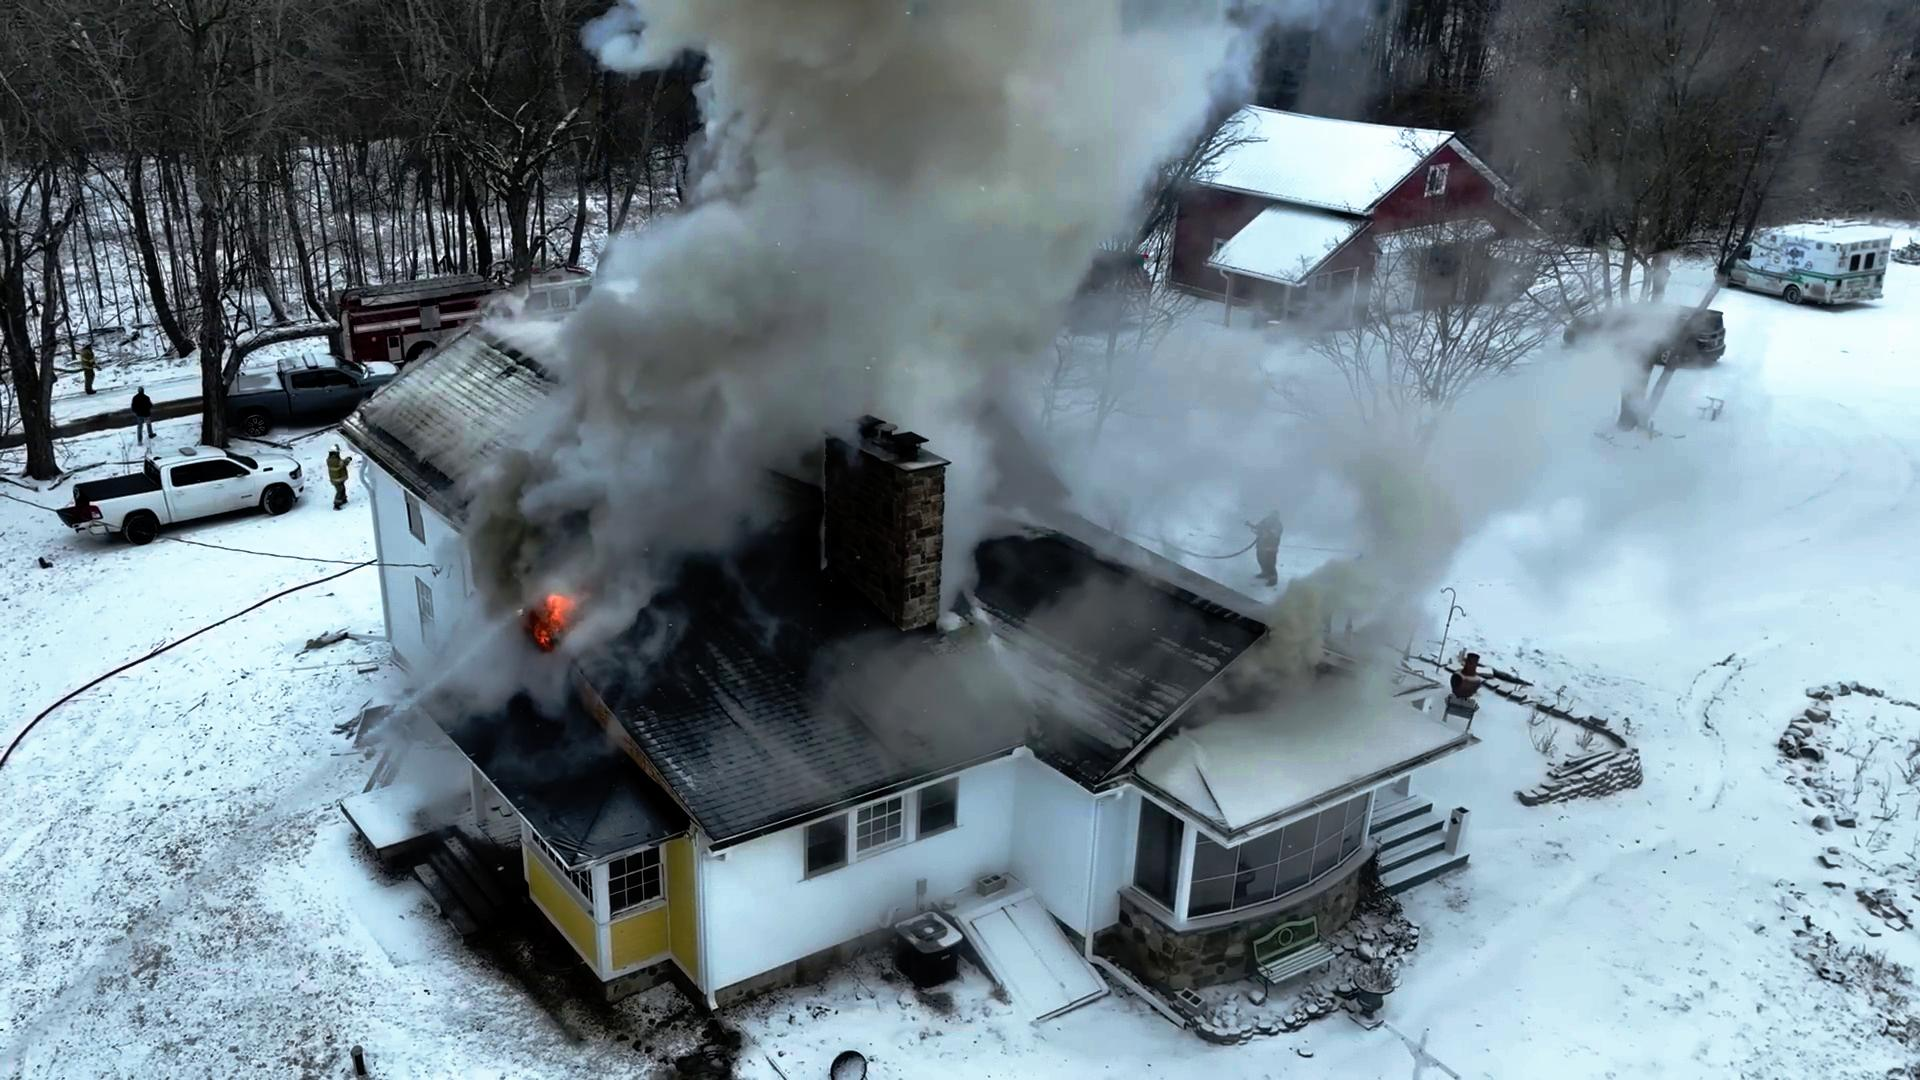smoke: (695, 0, 1033, 433)
